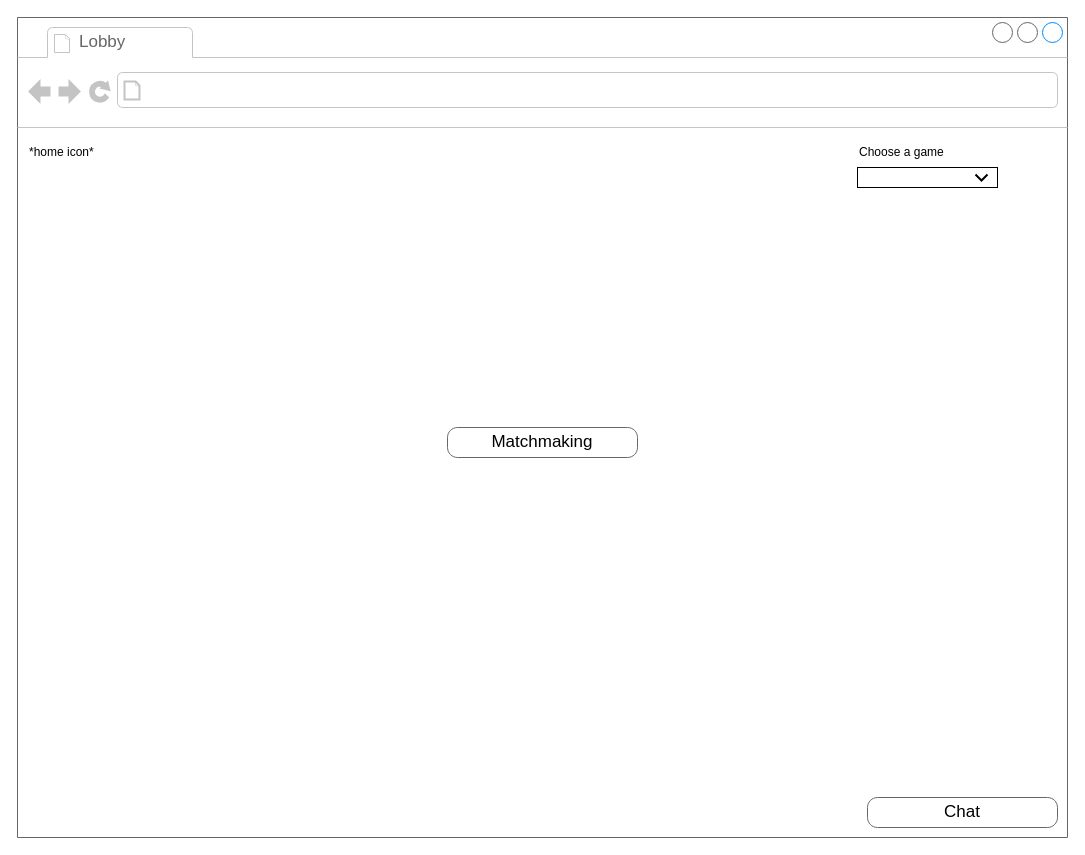
The diagram is 1085 pixels wide and 855 high, and some of its shapes have lost their labels. Each missing label, with the centre of its shape:
http://localhost/Assignment/page/lobby.php: (322,90)
Rock Paper Scissors: (927,177)
